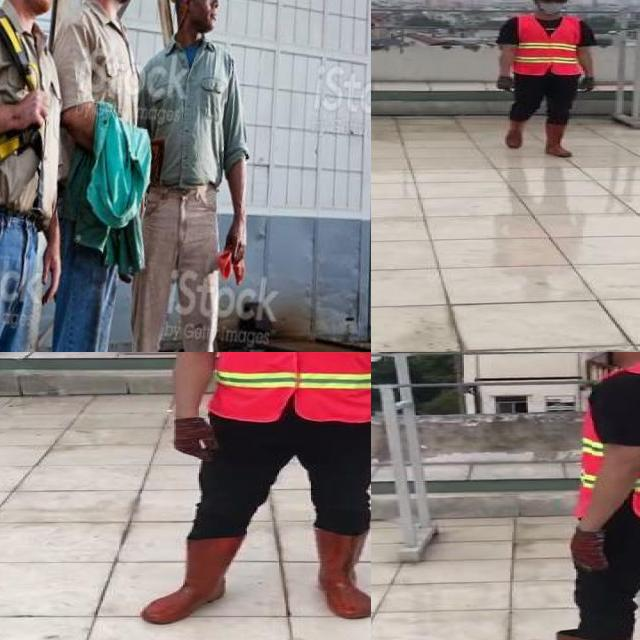Harness: (0, 8, 48, 173)
boots: (140, 533, 244, 624), (311, 525, 371, 618), (544, 121, 576, 158), (502, 118, 524, 148)
face_mask: (568, 352, 622, 362), (538, 0, 568, 13)
glasses: (537, 0, 569, 5)
hand_glove: (569, 528, 613, 573), (174, 417, 217, 459), (496, 75, 517, 92), (576, 76, 595, 94)
person: (134, 352, 371, 626), (497, 352, 640, 640), (495, 0, 607, 162)
vest: (206, 352, 371, 421), (572, 361, 640, 522), (514, 15, 584, 75)
